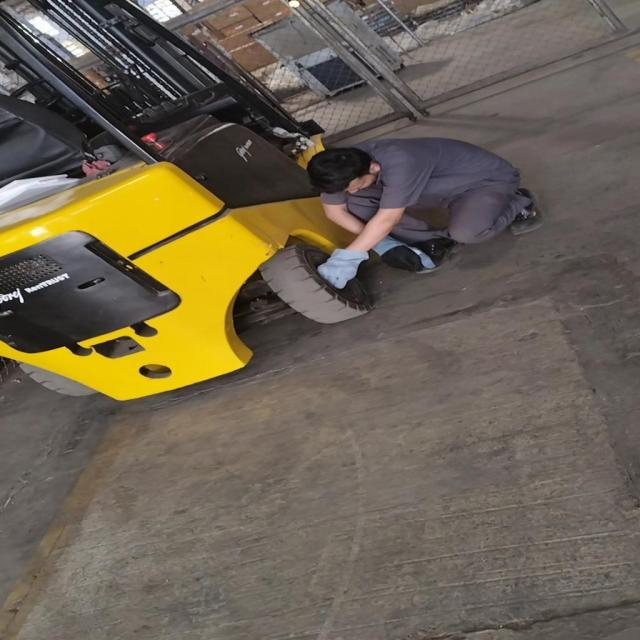Gloves-Detection: (364, 240, 430, 276), (321, 242, 359, 290)
